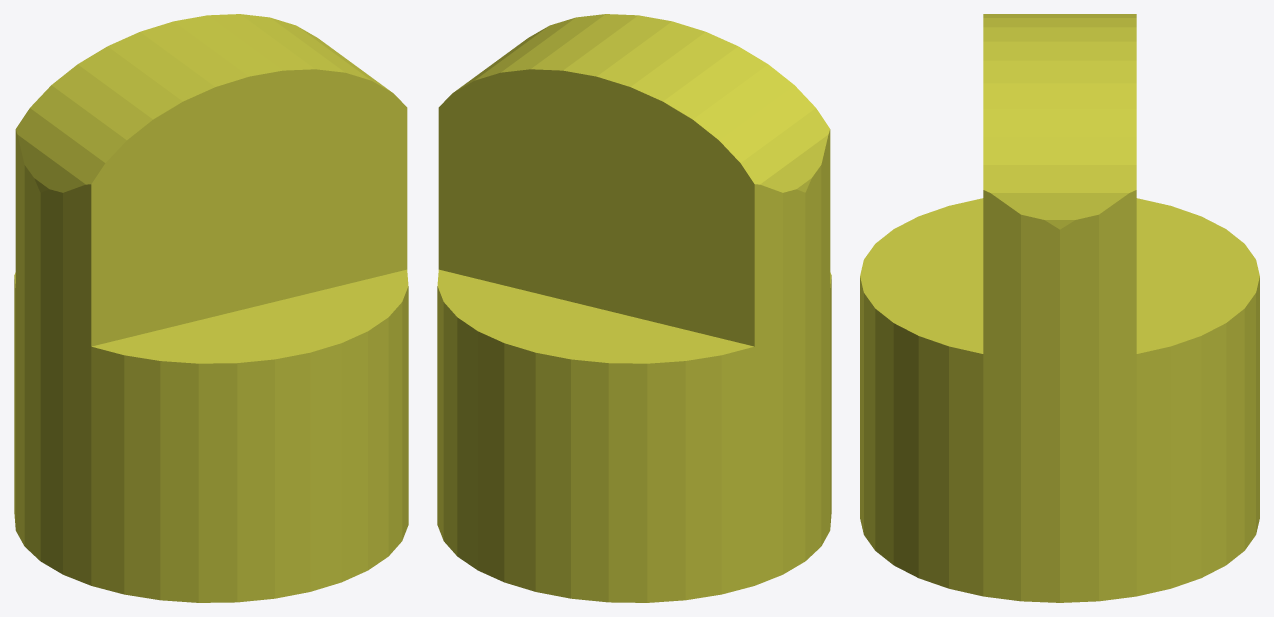
The picture shows the model from 3 angles, left to right: view 1: azimuth 30°, elevation 25°; view 2: azimuth 150°, elevation 25°; view 3: azimuth 270°, elevation 25°; orthographic projection.
Visible parts, largest first — view 1: link_4; view 2: link_4; view 3: link_4.
Part boxes in pixels (left/top/right/bottom): link_4: left=14, top=14, right=408, bottom=602; link_4: left=437, top=14, right=831, bottom=602; link_4: left=860, top=14, right=1259, bottom=602.
Size of the model in its own units: 2 by 2 by 2.63.
